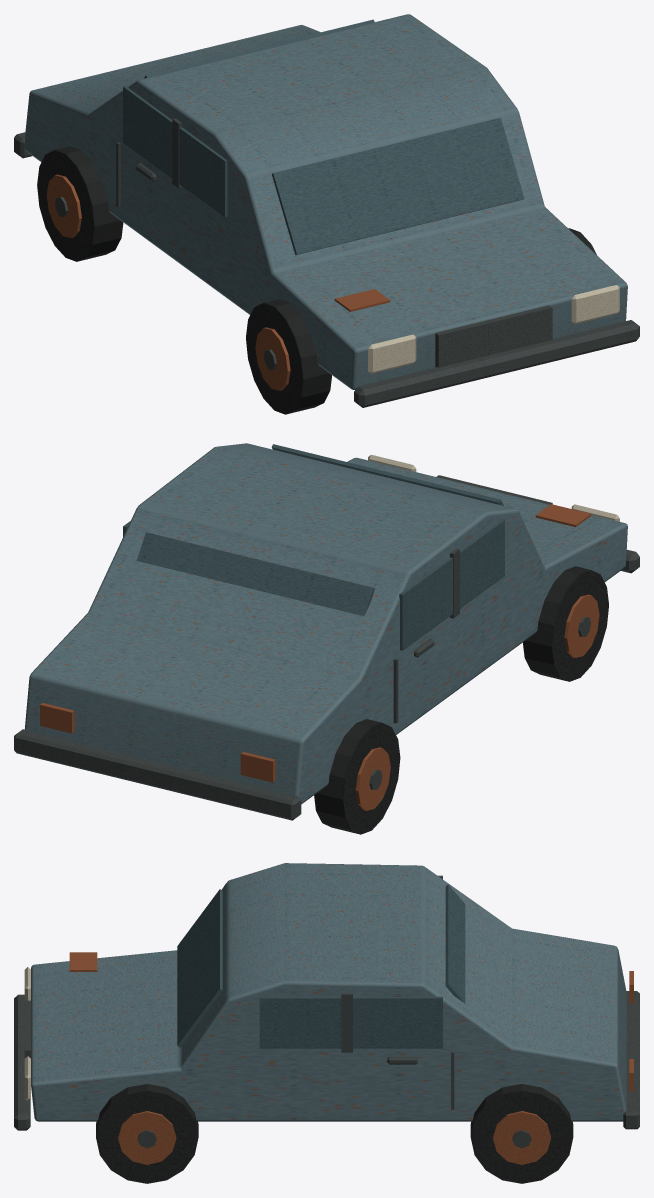
The model's file is WornHatchback.fbx.
The picture shows the model from 3 angles, top to bottom: view 1: azimuth 30°, elevation 25°; view 2: azimuth 150°, elevation 25°; view 3: azimuth 270°, elevation 25°; orthographic projection. The views are drawn at different scales.
Parts seen in each view (by area): view 1: WornHatchback; view 2: WornHatchback; view 3: WornHatchback.
Boxes of the visible parts, box(x1,y1,x2,y2) form: WornHatchback: box(14, 14, 639, 414); WornHatchback: box(14, 443, 639, 834); WornHatchback: box(14, 863, 639, 1183).
Bounding box in the file's own units: 236 × 155 × 451.
1 material, 1 textured.
